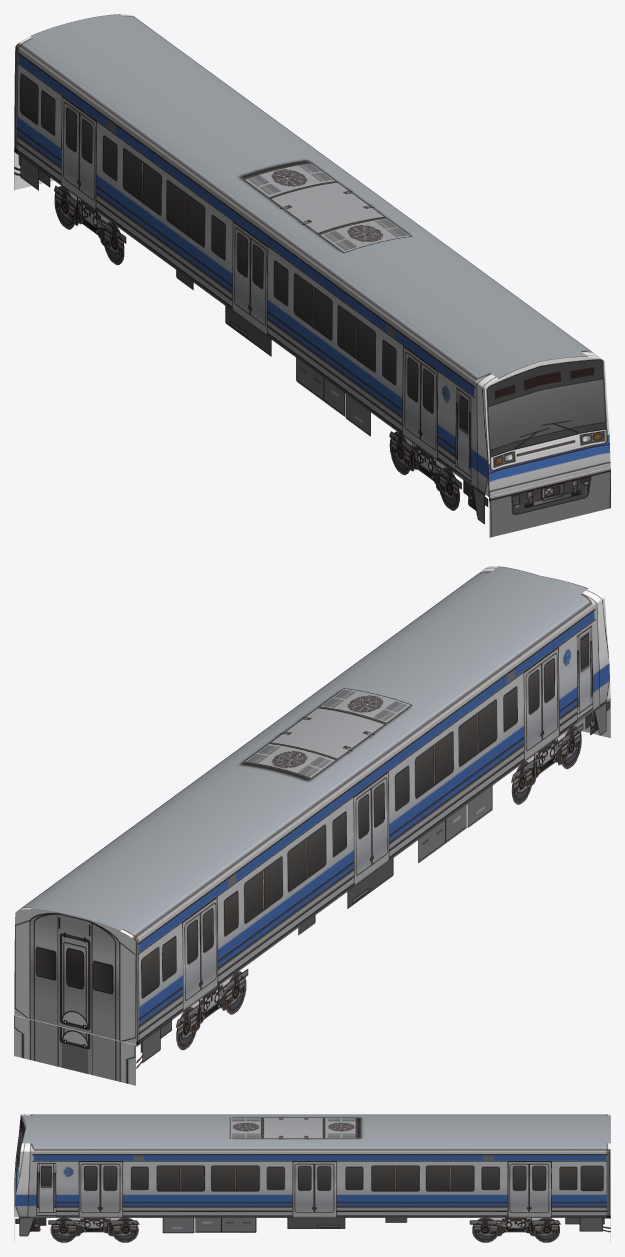
Rendered from car1.glb.
3 renders of one model, top to bottom at view 1: azimuth 30°, elevation 25°; view 2: azimuth 150°, elevation 25°; view 3: azimuth 270°, elevation 25°, orthographic. The views are drawn at different scales.
Visible parts, largest first — view 1: car1.glb; view 2: car1.glb; view 3: car1.glb.
Part boxes in pixels (bbox=[...]): car1.glb: bbox=[14, 14, 610, 537]; car1.glb: bbox=[14, 566, 610, 1085]; car1.glb: bbox=[14, 1114, 610, 1242].
Size of the model in its own units: 2.95 by 3.57 by 19.92.
8 materials, 7 textured.
